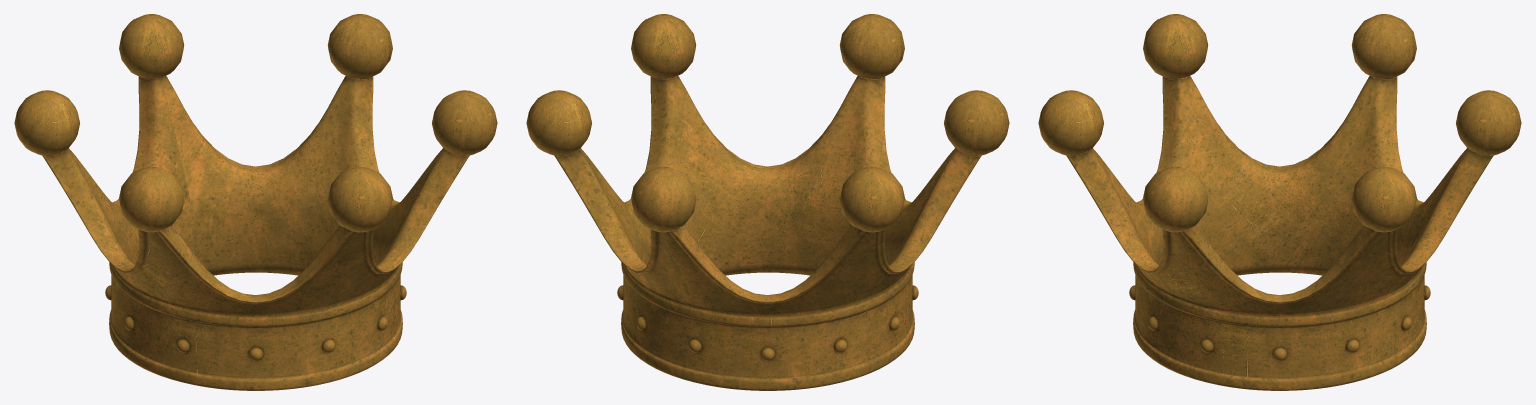
The model's file is Treasure Crown.fbx.
3 views of the same model, side by side, from view 1: azimuth 30°, elevation 25°; view 2: azimuth 150°, elevation 25°; view 3: azimuth 270°, elevation 25° (orthographic).
Visible parts, largest first — view 1: Treasure Crown_obj; view 2: Treasure Crown_obj; view 3: Treasure Crown_obj.
Boxes of the visible parts, box(x1,y1,x2,y2) form: Treasure Crown_obj: box(14, 14, 497, 390); Treasure Crown_obj: box(526, 14, 1009, 390); Treasure Crown_obj: box(1038, 14, 1521, 390).
Bounding box in the file's own units: 0.2117 × 0.1292 × 0.2398.
